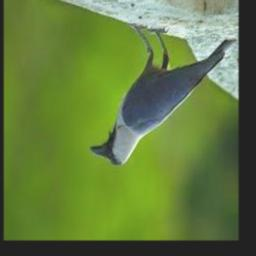Crow: (89, 26, 235, 165)
